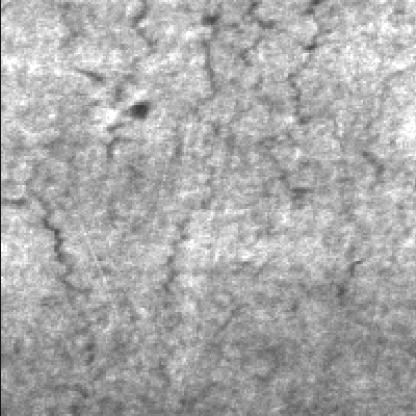crazing: (19, 0, 152, 368), (187, 0, 384, 218)
